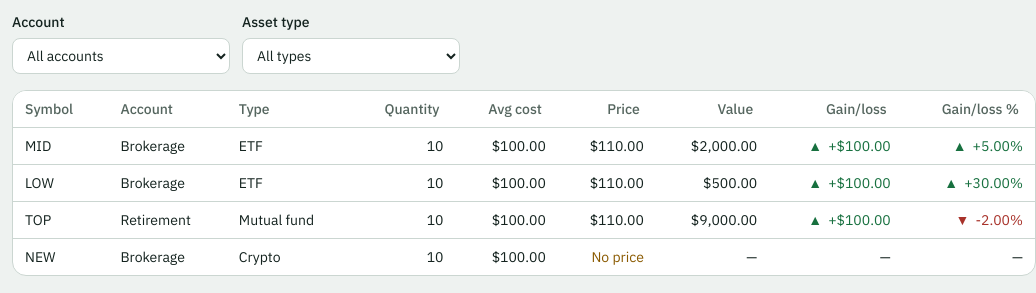
Test case: HoldingsTable › says when the filters hide every holding
Step 1. Select "Retirement" in the dropdown labelled "Account" → [121, 56], box [12,38,230,74]
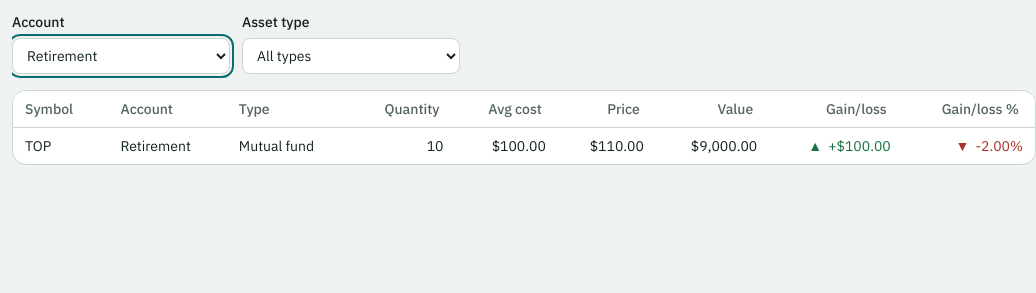
Step 2. Select "ETF" in the dropdown labelled "Asset type" → [351, 56], box [242,38,460,74]
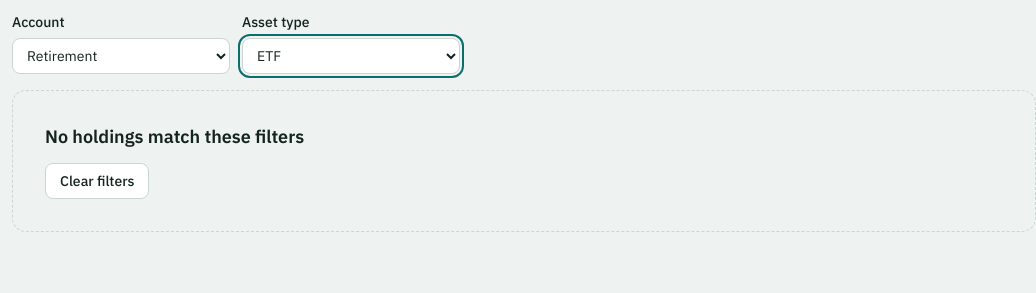
Check: the heading "No holdings match these filters" is shown, box [45,123,304,151]
